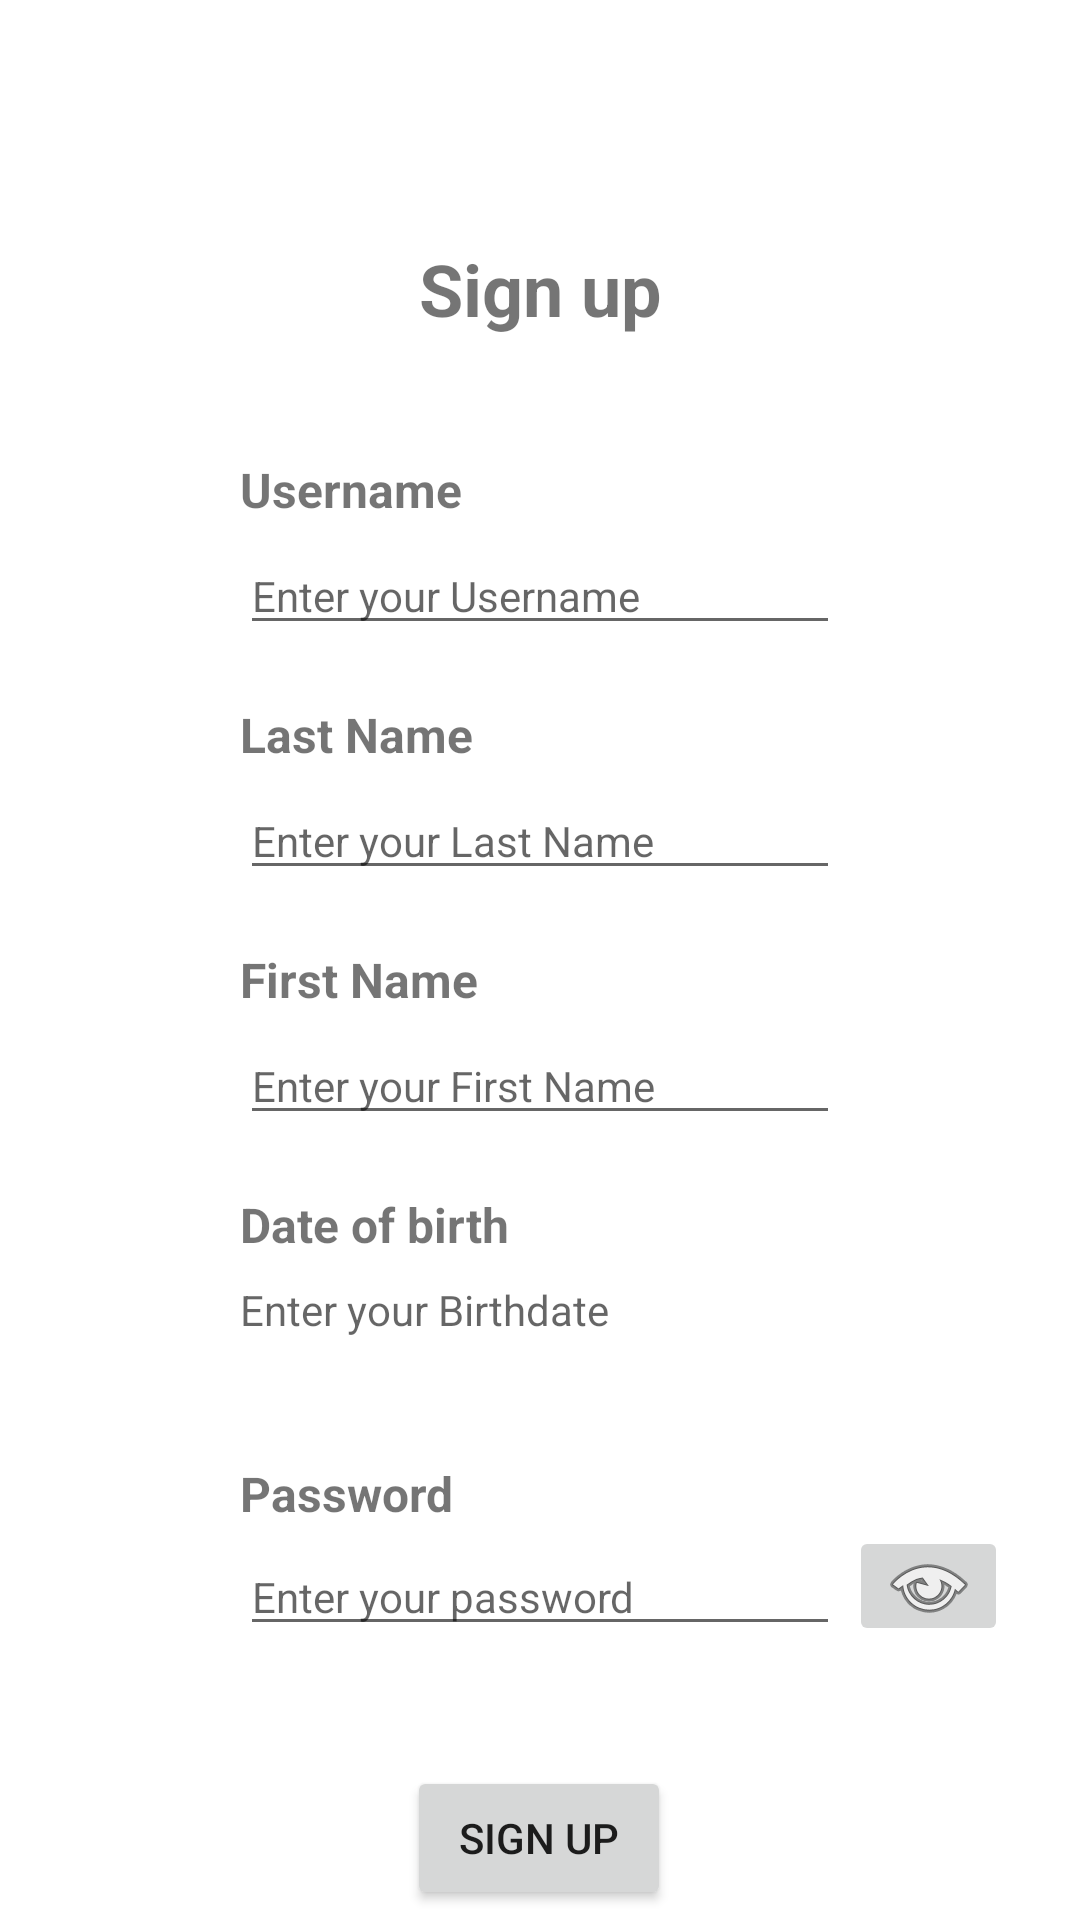

Locate icon controls on the screen. Image size 1080*1920, boxes as (x1,y1,x2,y2).
view: (861,1544,996,1628)
